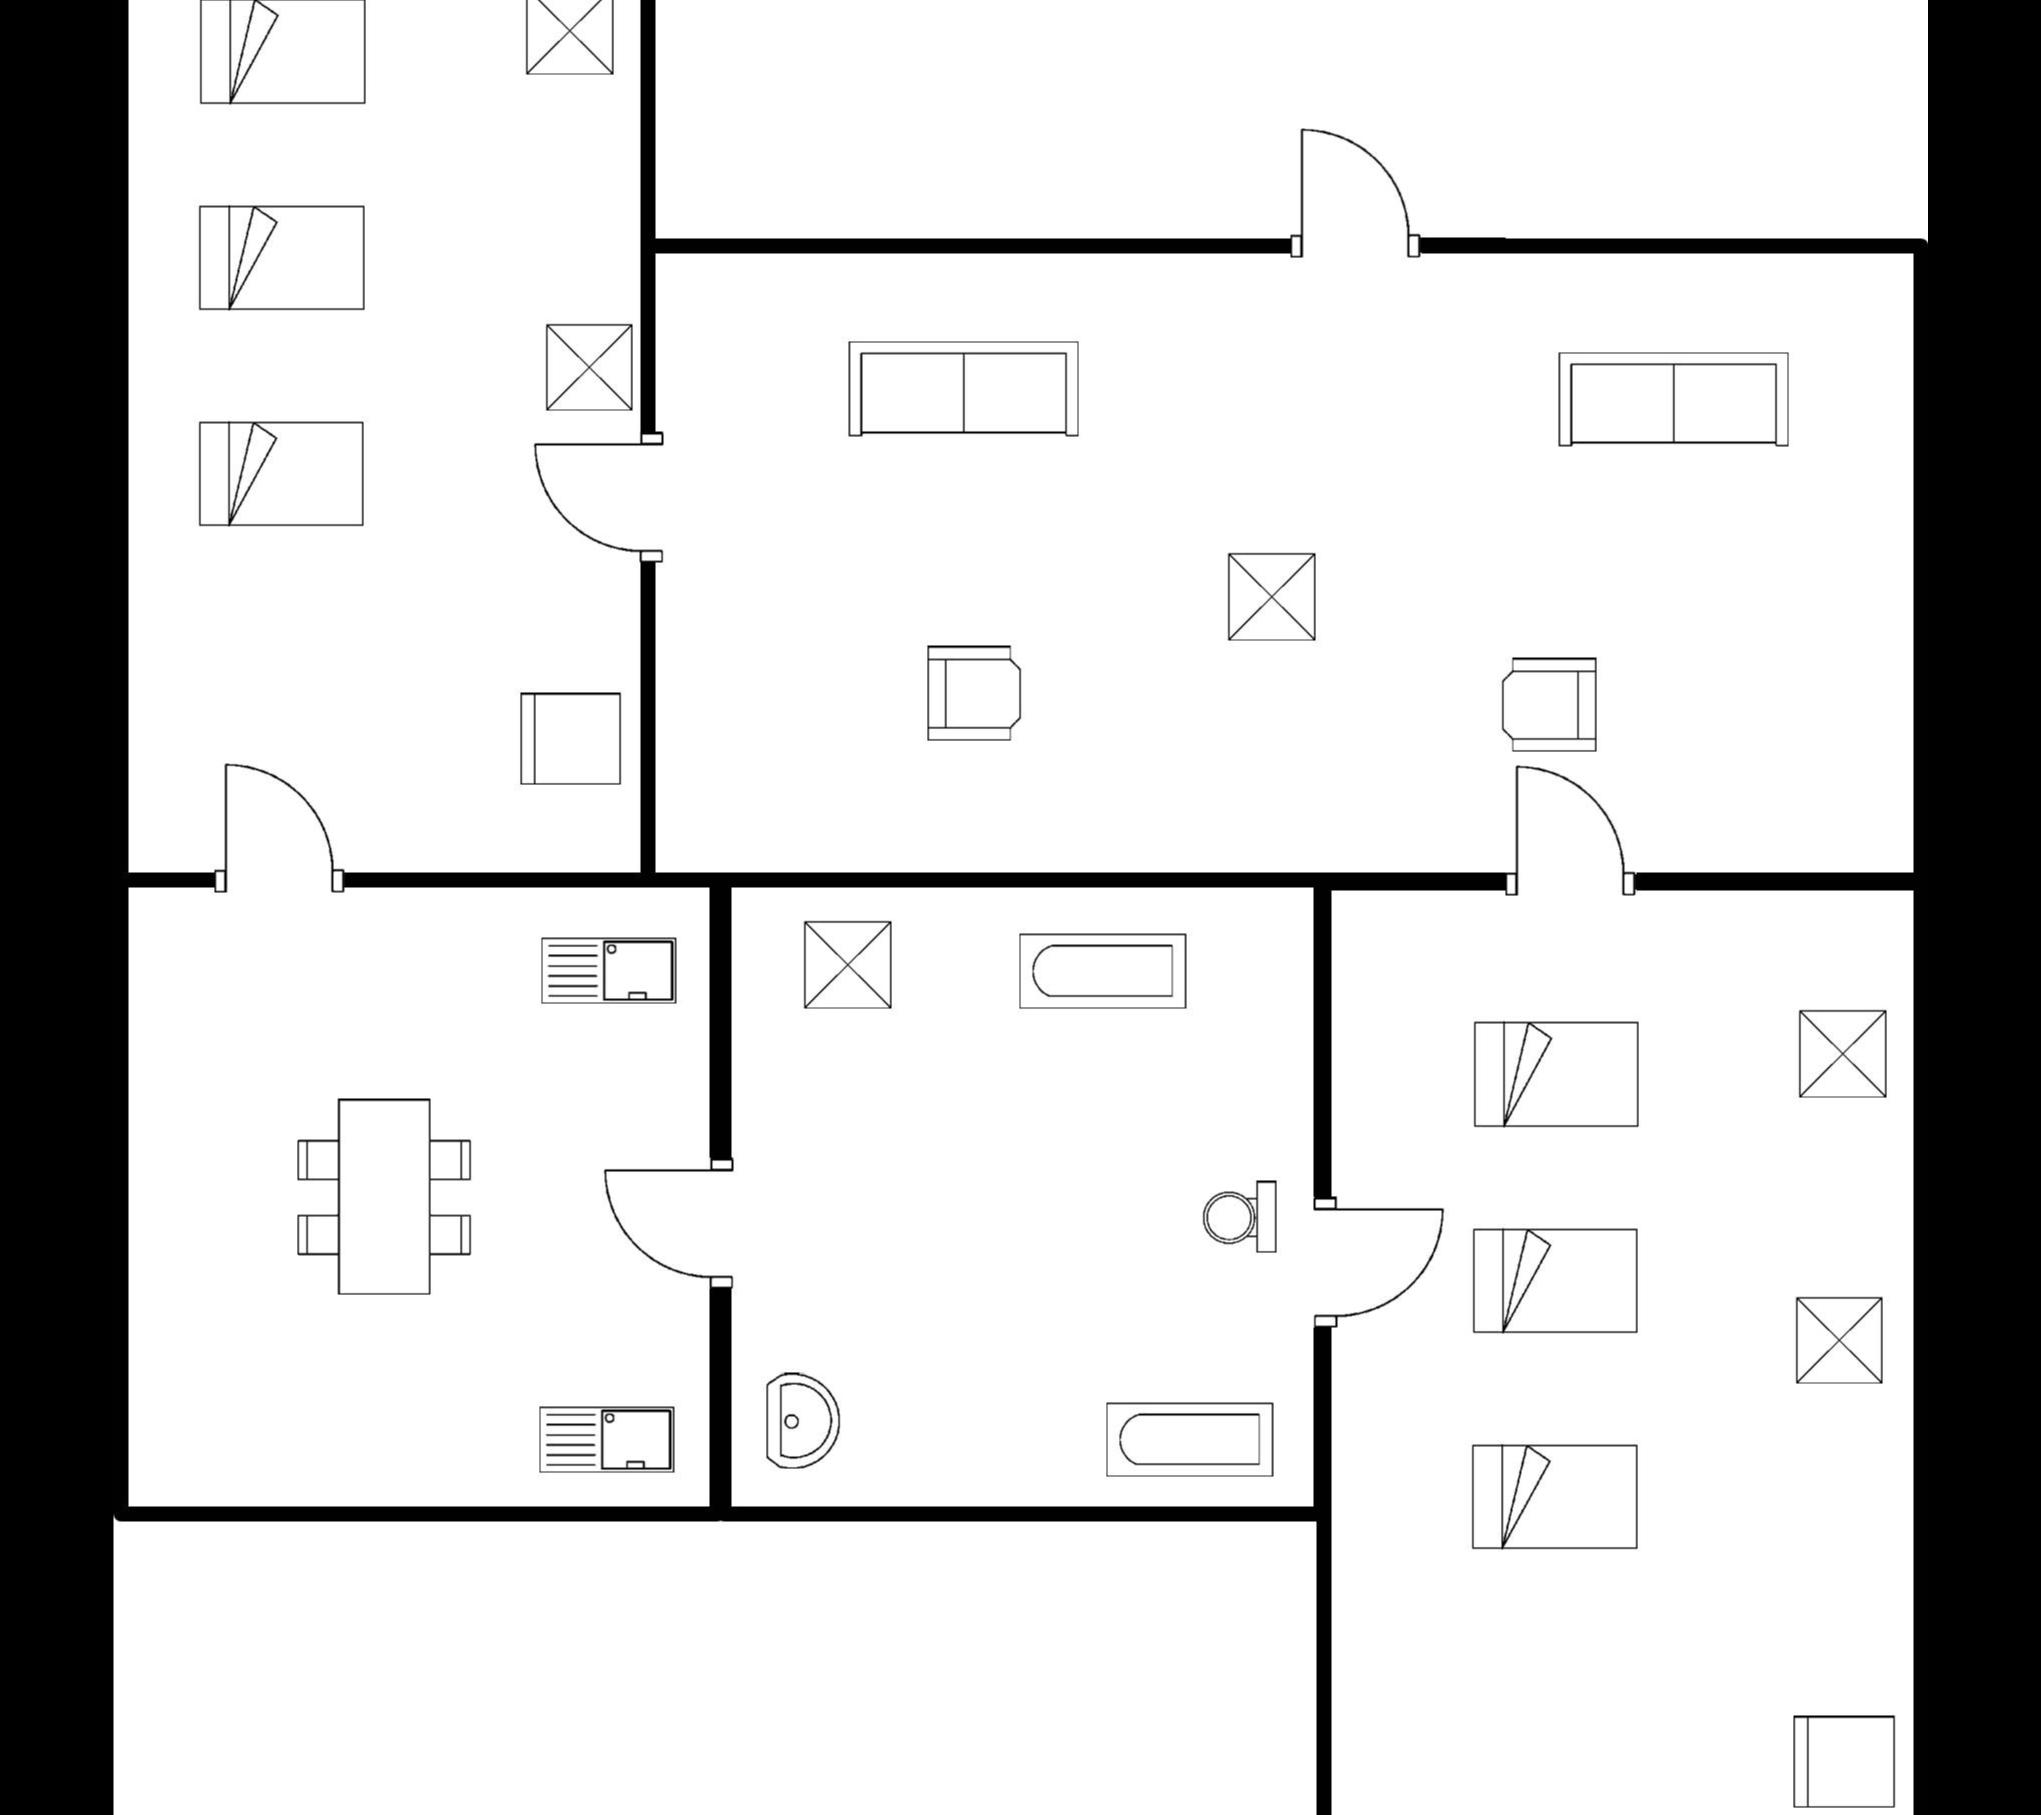bed: (186, 189, 375, 322), (184, 405, 377, 533), (1459, 1216, 1650, 1344), (1459, 1433, 1643, 1564), (1459, 1011, 1650, 1137), (184, 0, 378, 119)
dining_table: (280, 1074, 484, 1310)
sink: (527, 1389, 689, 1482), (527, 923, 687, 1014)
sofa: (832, 321, 1086, 448), (1543, 336, 1803, 457)
toilet: (1188, 1165, 1289, 1263)
tub: (1006, 913, 1200, 1027), (1091, 1382, 1289, 1489)
